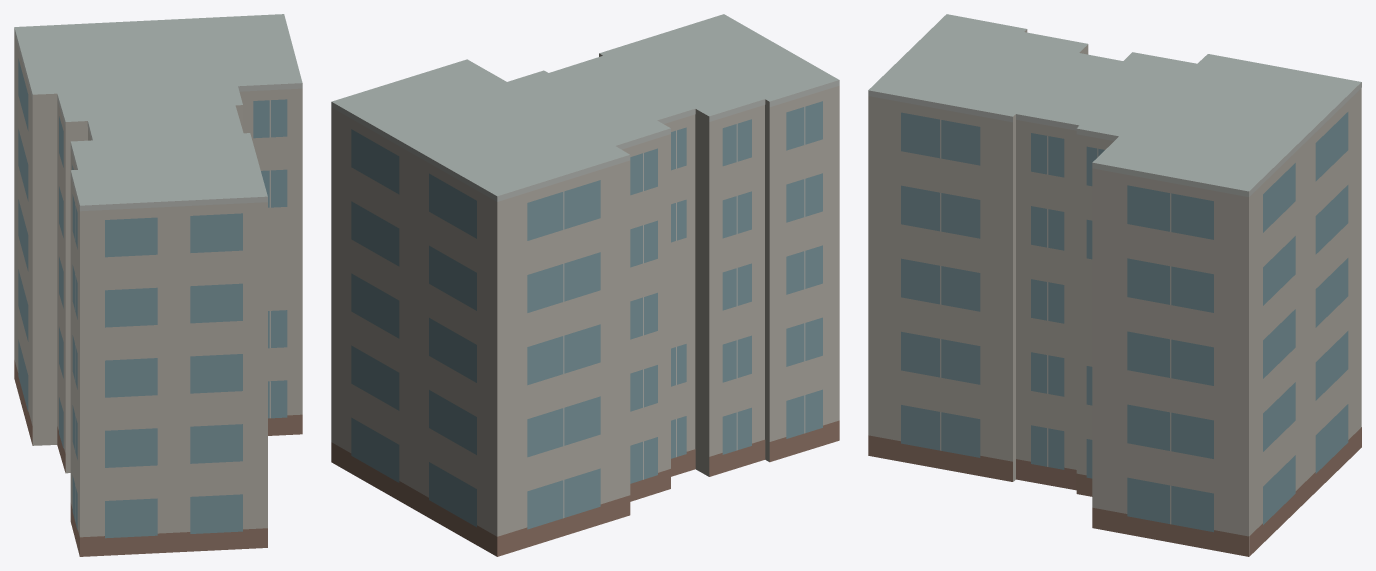
File: survey-upis-32536940.glb
The picture shows the model from 3 angles, left to right: view 1: azimuth 30°, elevation 25°; view 2: azimuth 150°, elevation 25°; view 3: azimuth 270°, elevation 25°; orthographic projection. The views are drawn at different scales.
Parts seen in each view (by area): view 1: survey-upis-32536940.tmp; view 2: survey-upis-32536940.tmp; view 3: survey-upis-32536940.tmp.
Boxes of the visible parts, box(x1,y1,x2,y2) form: survey-upis-32536940.tmp: box(14, 14, 302, 556); survey-upis-32536940.tmp: box(331, 14, 839, 556); survey-upis-32536940.tmp: box(868, 14, 1361, 556).
Size of the model in its own units: 16.16 by 15.5 by 18.98.
